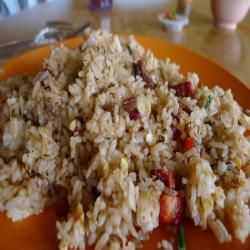rice: (12, 61, 248, 245)
